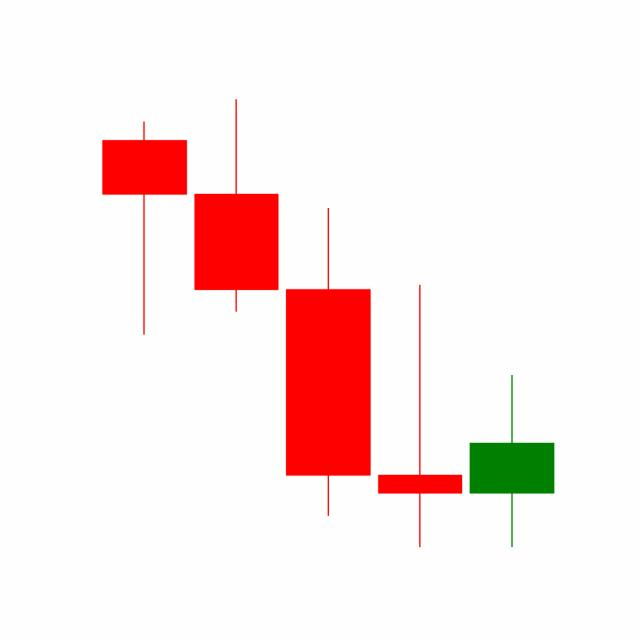Spinning Top: (373, 282, 467, 550)
